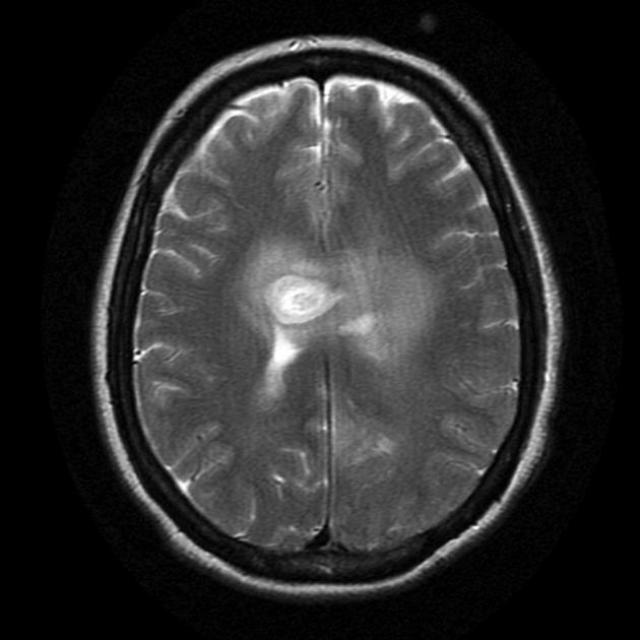Tumor: (257, 263, 356, 331)
